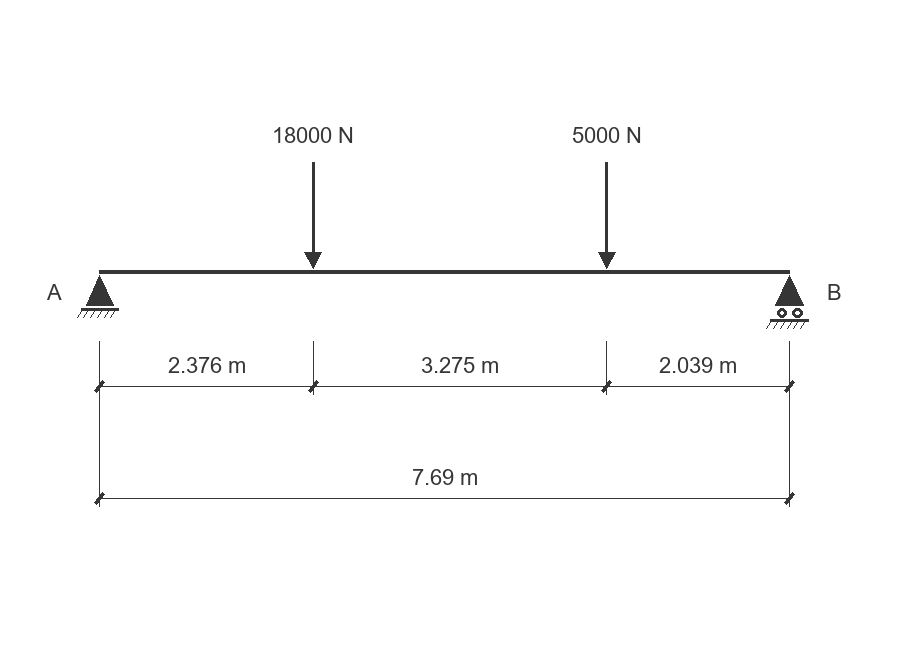pin_support: (77, 275, 119, 318)
point_load: (304, 162, 322, 269), (598, 162, 616, 269)
roller_support: (766, 275, 809, 329)
